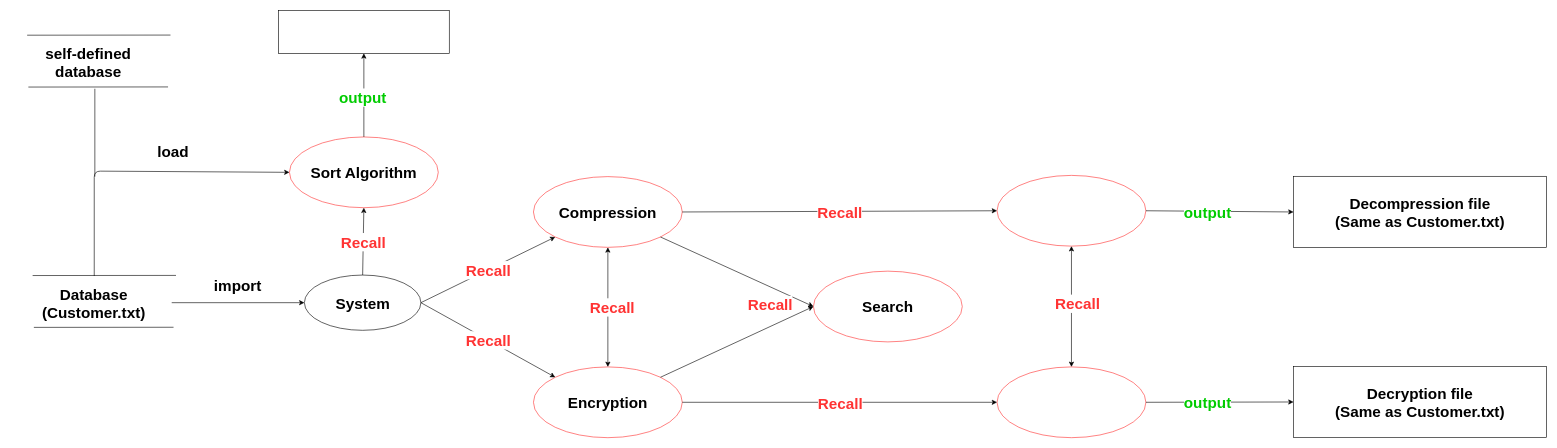
Image size: 1557x448. Some labels were removed from this diagram. Each missing label, with the centre of its shape:
"Decompression" belongs at (x=1071, y=210).
"Decryption" belongs at (x=1071, y=402).
"Sorted file" belongs at (x=363, y=31).
